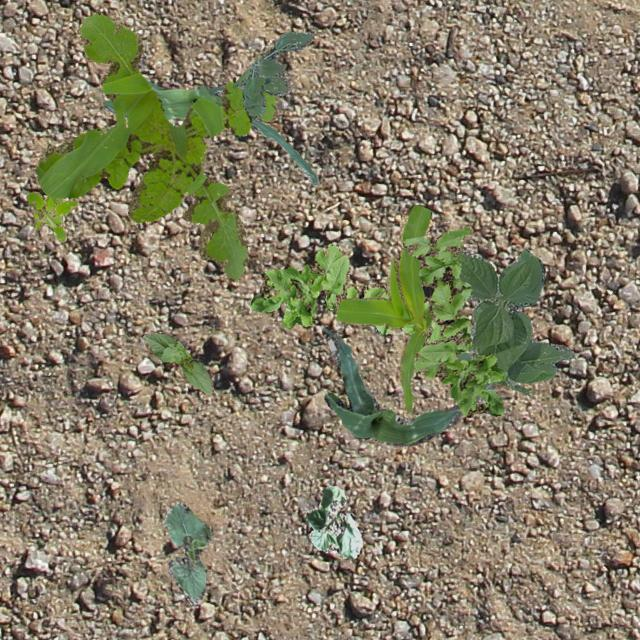crop: (101, 78, 318, 185), (334, 204, 432, 416), (321, 326, 497, 444), (456, 248, 574, 394), (163, 502, 210, 604), (142, 331, 212, 394), (304, 484, 362, 558)
weed: (34, 12, 276, 280), (248, 242, 446, 344), (402, 226, 504, 417), (232, 30, 312, 116), (26, 190, 76, 242)
